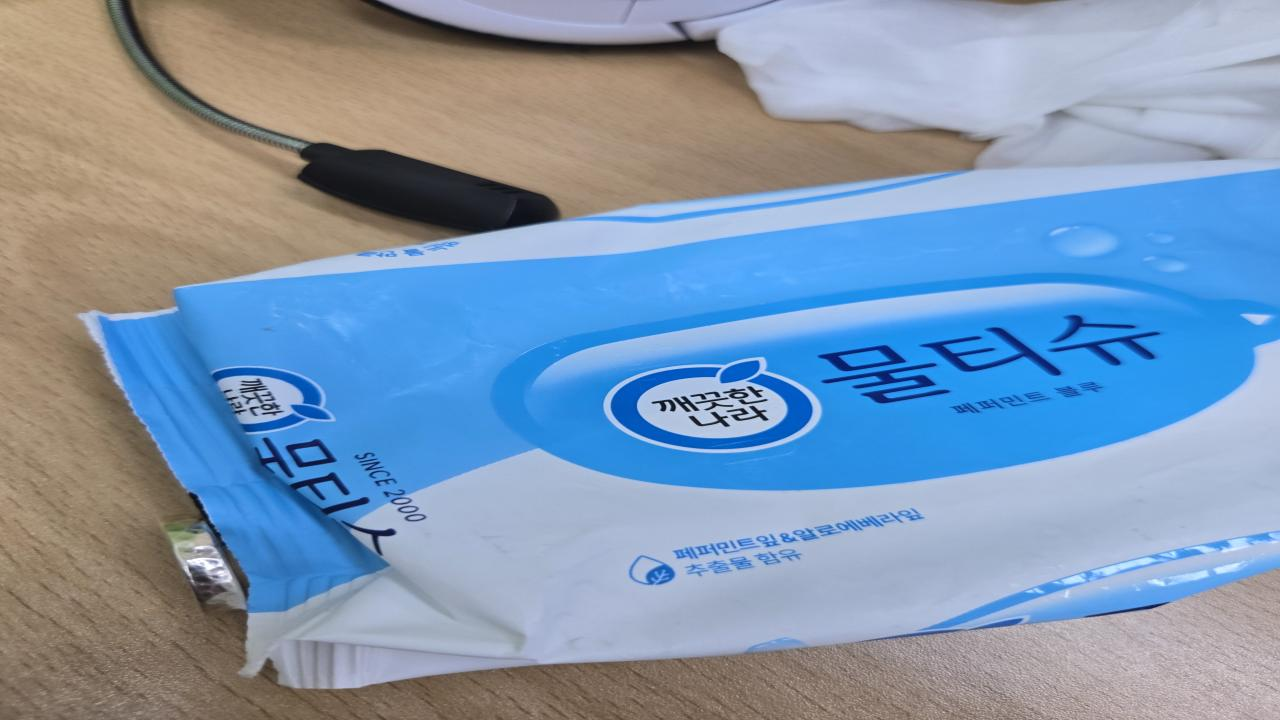ring: (155, 511, 249, 616)
